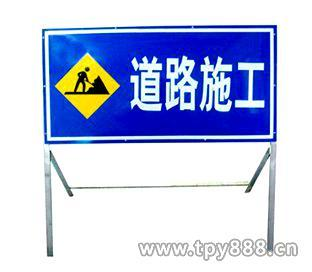sign: (45, 30, 274, 138)
